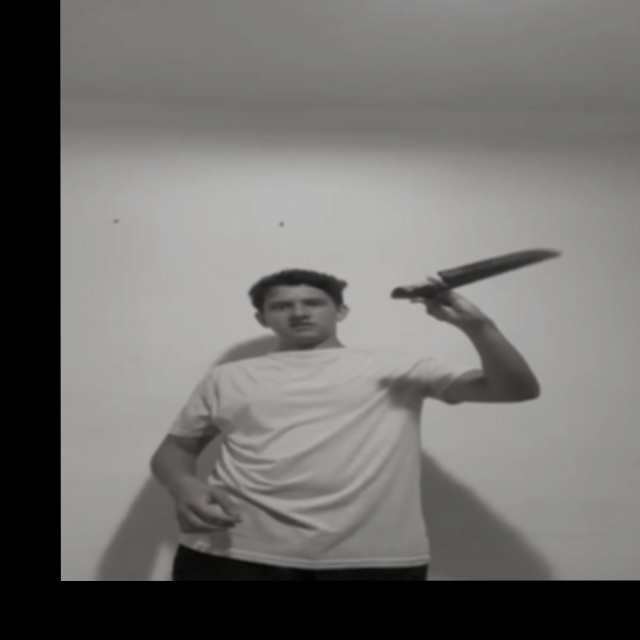Sharp-Object: (443, 248, 560, 281)
